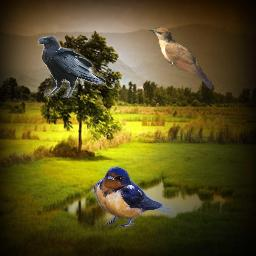Crow: (37, 36, 106, 98)
Cuckoo: (149, 27, 212, 89)
Swallow: (91, 166, 173, 229)
